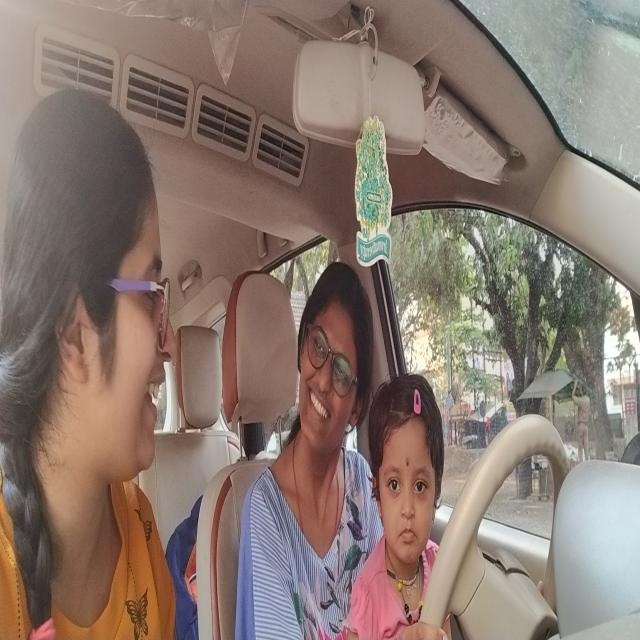child: (371, 372, 449, 566)
person: (1, 80, 176, 504), (293, 255, 374, 468)
